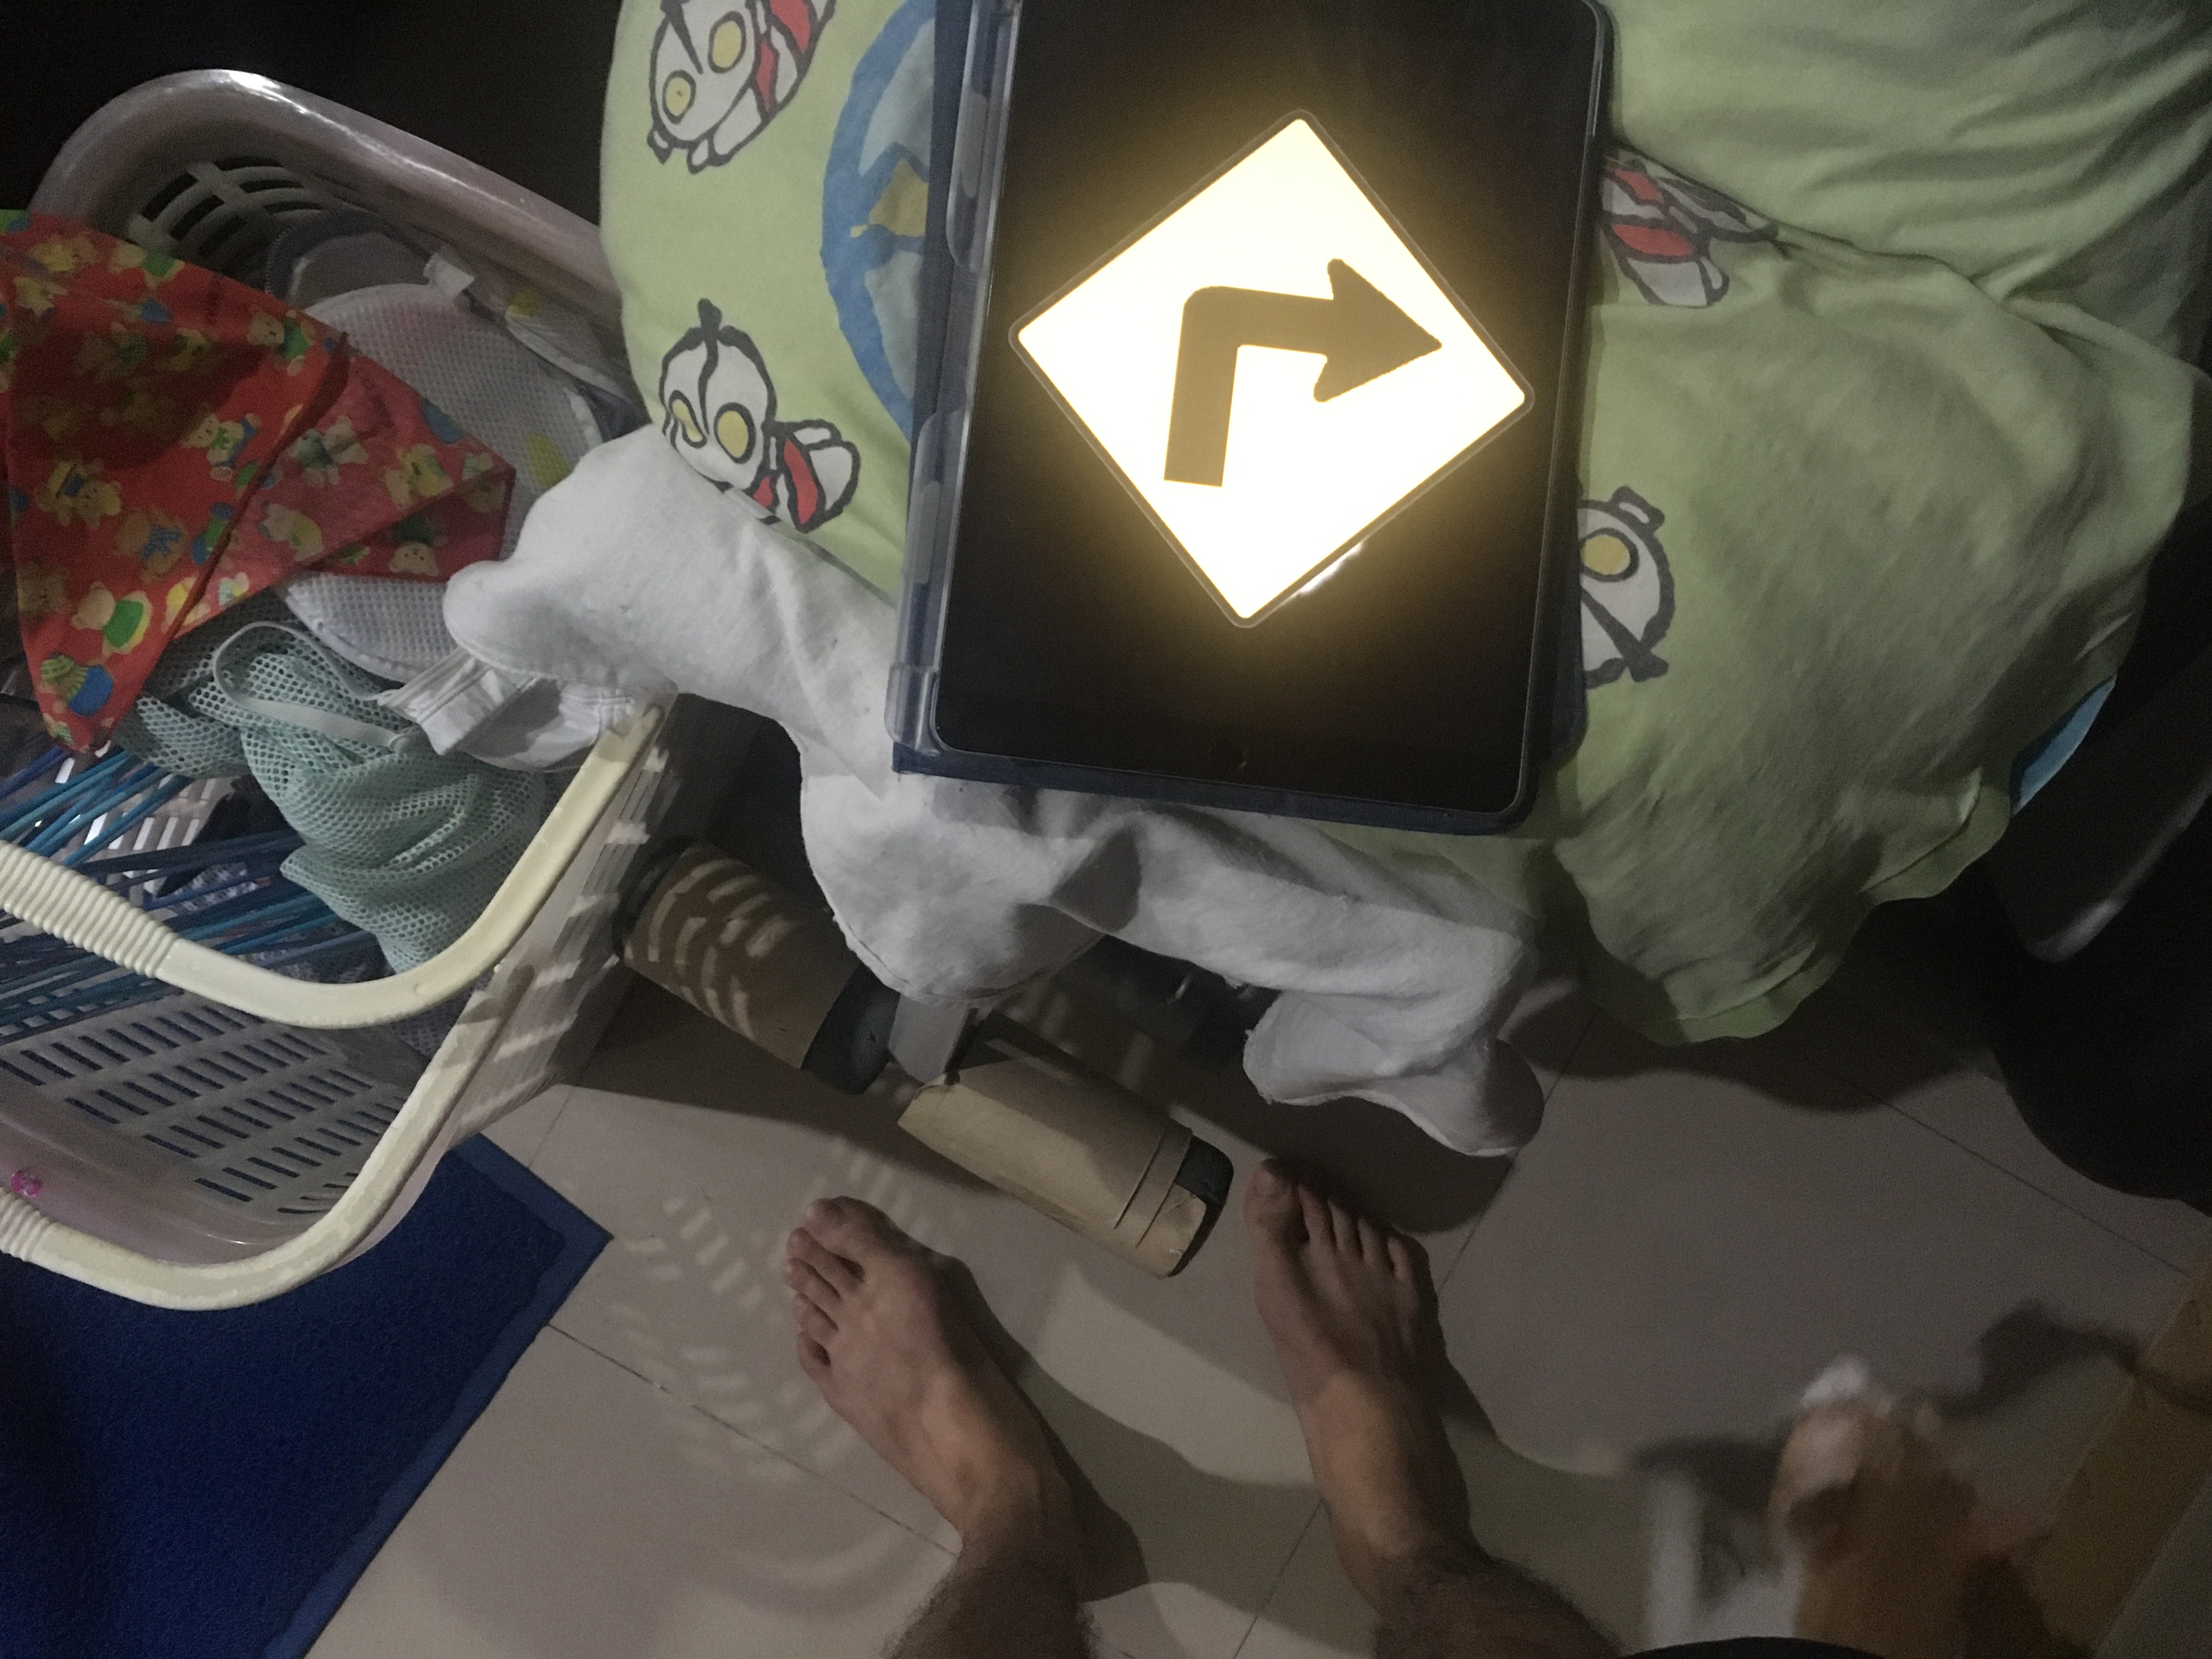right: (976, 103, 1537, 627)
